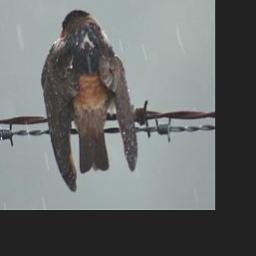Swallow: (40, 8, 139, 193)
